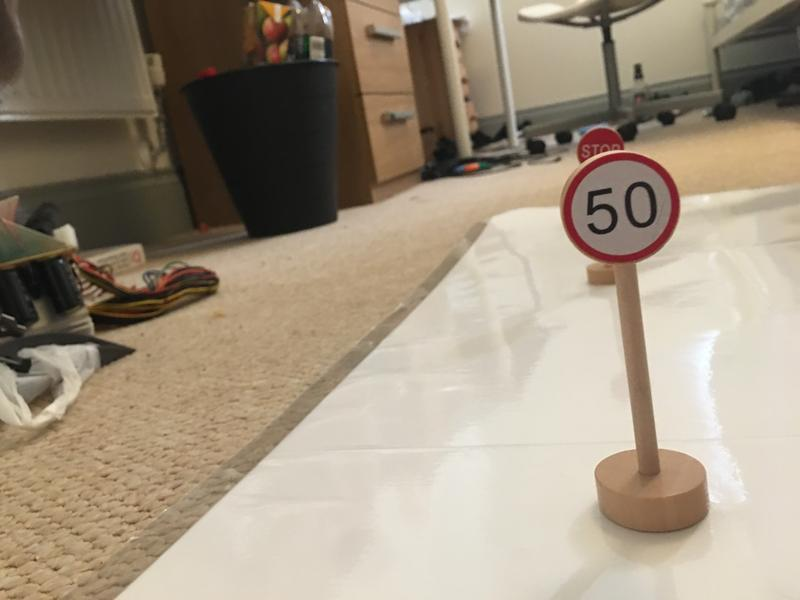Traffic_Sign_50: (564, 153, 678, 263)
Traffic_Sign_Stop: (577, 127, 624, 156)
